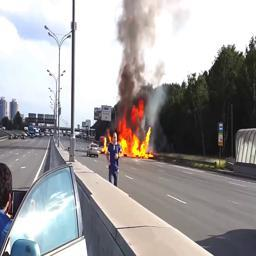fire: (103, 100, 154, 158)
